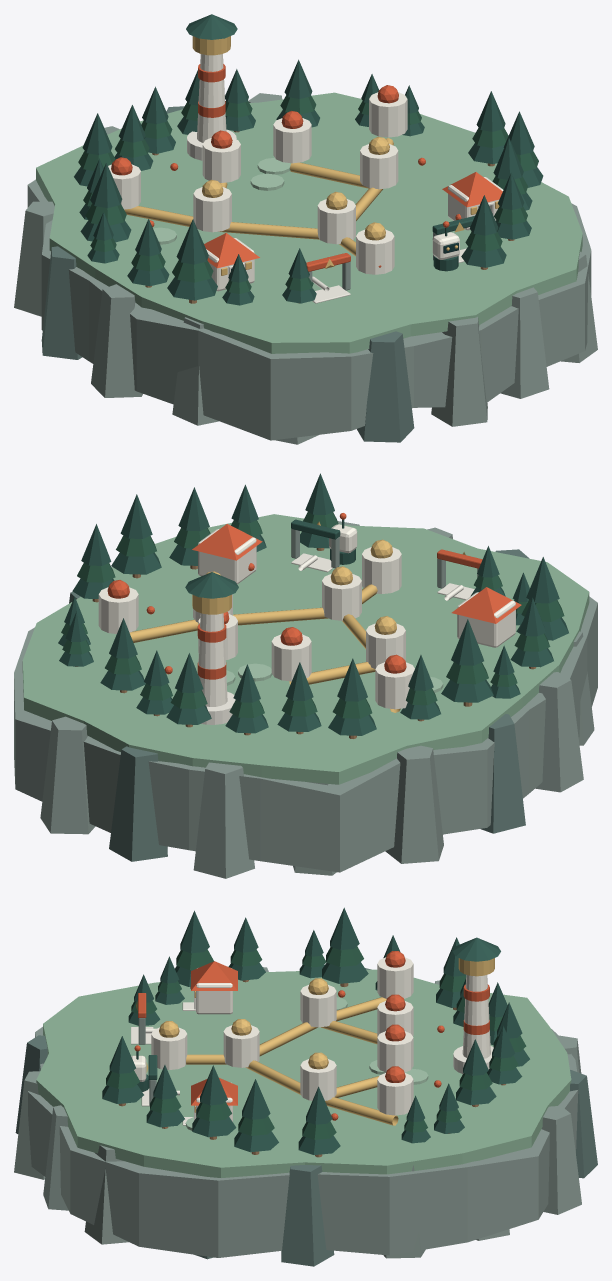
The model's file is chapter-13.glb.
The picture shows the model from 3 angles, top to bottom: view 1: azimuth 30°, elevation 25°; view 2: azimuth 150°, elevation 25°; view 3: azimuth 270°, elevation 25°; orthographic projection. The views are drawn at different scales.
Visible parts, largest first — view 1: terrain, rock_base, cliff_facet_12, cliff_facet_09, cliff_facet_13, cliff_facet_14, cliff_facet_08, cliff_facet_07, beacon, cliff_facet_10, landmark_trie_7, landmark_trie_0 (+34 smaller); view 2: terrain, rock_base, cliff_facet_05, cliff_facet_07, cliff_facet_03, cliff_facet_04, cliff_facet_09, cliff_facet_08, beacon, landmark_trie_1, landmark_trie_7, landmark_library (+45 smaller); view 3: terrain, rock_base, cliff_facet_00, cliff_facet_03, cliff_facet_04, cliff_facet_14, beacon, cliff_facet_15, cliff_facet_13, landmark_trie_7, landmark_trie_2, landmark_trie_1 (+40 smaller).
Part boxes in pixels (left/top/right/bottom): terrain: left=36, top=92, right=582, bottom=353; rock_base: left=27, top=179, right=591, bottom=440; cliff_facet_12: left=357, top=331, right=414, bottom=442; cliff_facet_09: left=91, top=284, right=142, bottom=397; cliff_facet_13: left=431, top=316, right=487, bottom=426; cliff_facet_14: left=500, top=287, right=549, bottom=398; cliff_facet_08: left=41, top=246, right=82, bottom=359; cliff_facet_07: left=14, top=201, right=54, bottom=316; beacon: left=197, top=54, right=226, bottom=142; cliff_facet_10: left=172, top=317, right=218, bottom=425; landmark_trie_7: left=369, top=92, right=407, bottom=137; landmark_trie_0: left=356, top=229, right=394, bottom=274; terrain: left=22, top=514, right=589, bottom=784; rock_base: left=14, top=596, right=597, bottom=872; cliff_facet_05: left=193, top=762, right=254, bottom=878; cliff_facet_07: left=385, top=745, right=443, bottom=863; cliff_facet_03: left=40, top=716, right=95, bottom=834; cliff_facet_04: left=109, top=746, right=167, bottom=861; cliff_facet_09: left=535, top=672, right=583, bottom=792; cliff_facet_08: left=481, top=714, right=525, bottom=833; beacon: left=197, top=613, right=227, bottom=706; landmark_trie_1: left=322, top=574, right=361, bottom=620; landmark_trie_7: left=98, top=587, right=138, bottom=633; landmark_library: left=457, top=592, right=515, bottom=647; terrain: left=36, top=969, right=571, bottom=1177; rock_base: left=28, top=1027, right=578, bottom=1257; cliff_facet_00: left=281, top=1165, right=334, bottom=1266; cliff_facet_03: left=541, top=1105, right=581, bottom=1214; cliff_facet_04: left=570, top=1070, right=597, bottom=1178; cliff_facet_14: left=43, top=1105, right=68, bottom=1210; beacon: left=462, top=975, right=490, bottom=1058; cliff_facet_15: left=84, top=1145, right=128, bottom=1244; cliff_facet_13: left=14, top=1071, right=45, bottom=1179; landmark_trie_7: left=377, top=1073, right=413, bottom=1115; landmark_trie_2: left=300, top=985, right=336, bottom=1027; landmark_trie_1: left=223, top=1025, right=259, bottom=1067.
Size of the model in its own units: 11.3 by 5.78 by 12.91.
